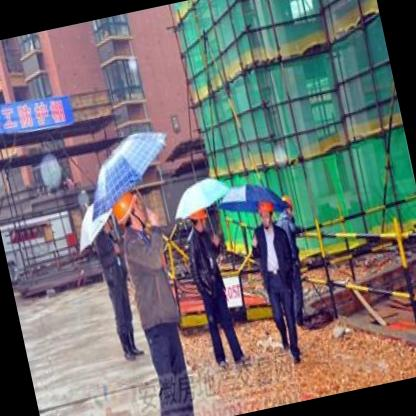bee: (108, 189, 150, 238), (254, 196, 278, 231), (188, 202, 212, 236), (276, 187, 297, 220)
